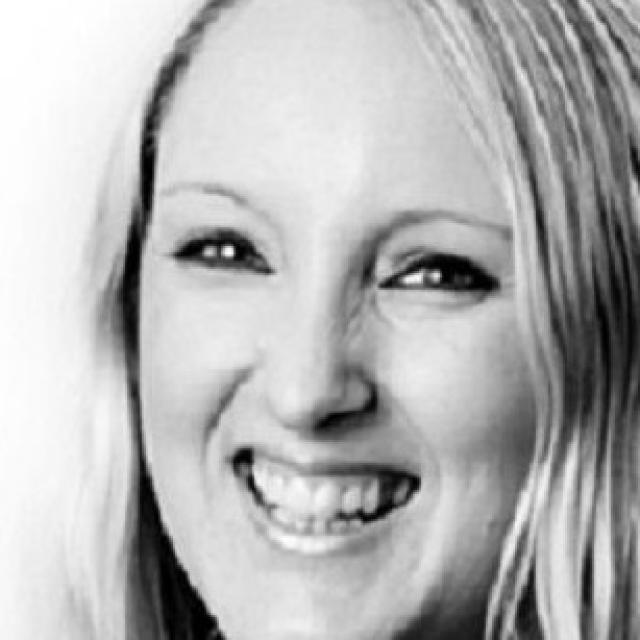Normal: (138, 0, 547, 638)
